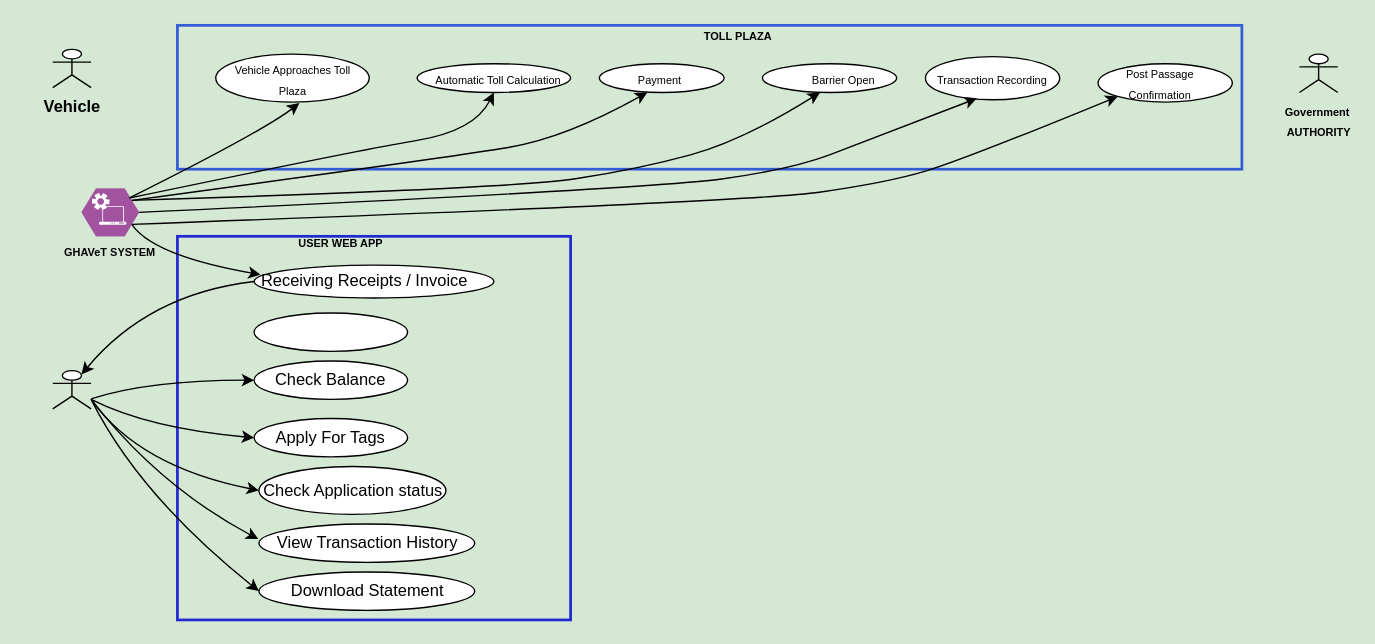
Some shapes in this 1375 by 644 pixel diagram are drawn without their labels. Here are the shapes that lost their labels. From the top down, the centre of each, then its label:
[330,331]: Deposit Funds
[71,389]: Vehicle User
